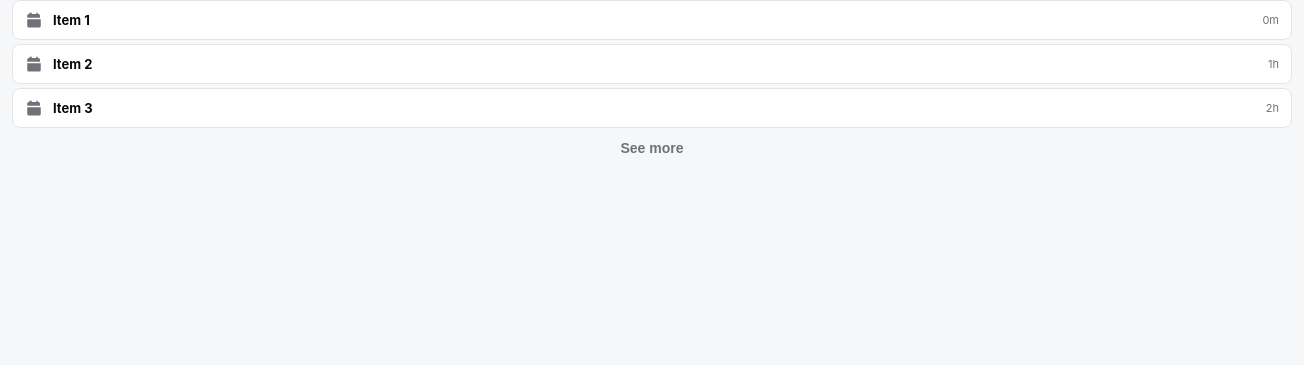
Test: ActivityFeed › expands when "See more" is clicked
Click the button "See more": (652,148) [12, 132, 1292, 164]
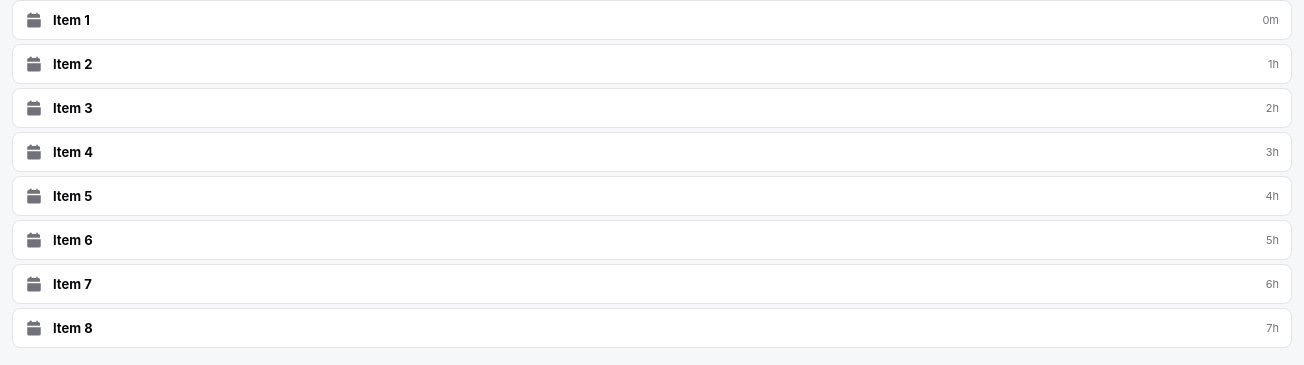
Check: the text "Item 8" is shown, box [53, 320, 93, 336]
